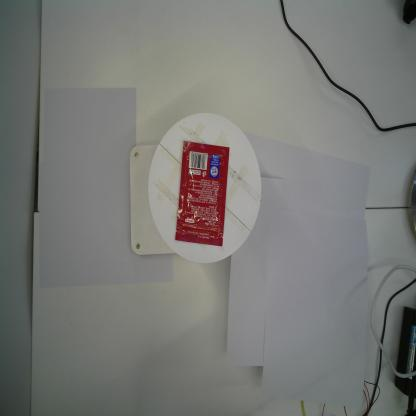Seasoner: (176, 140, 230, 246)
